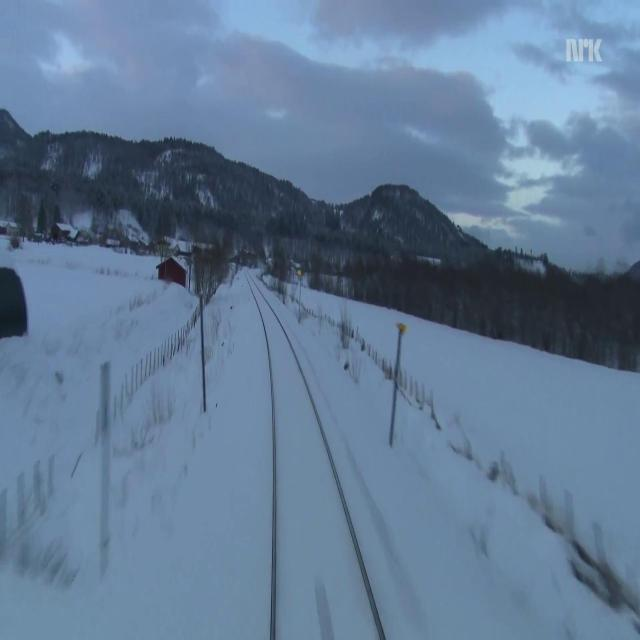rail-track: (245, 270, 380, 639)
